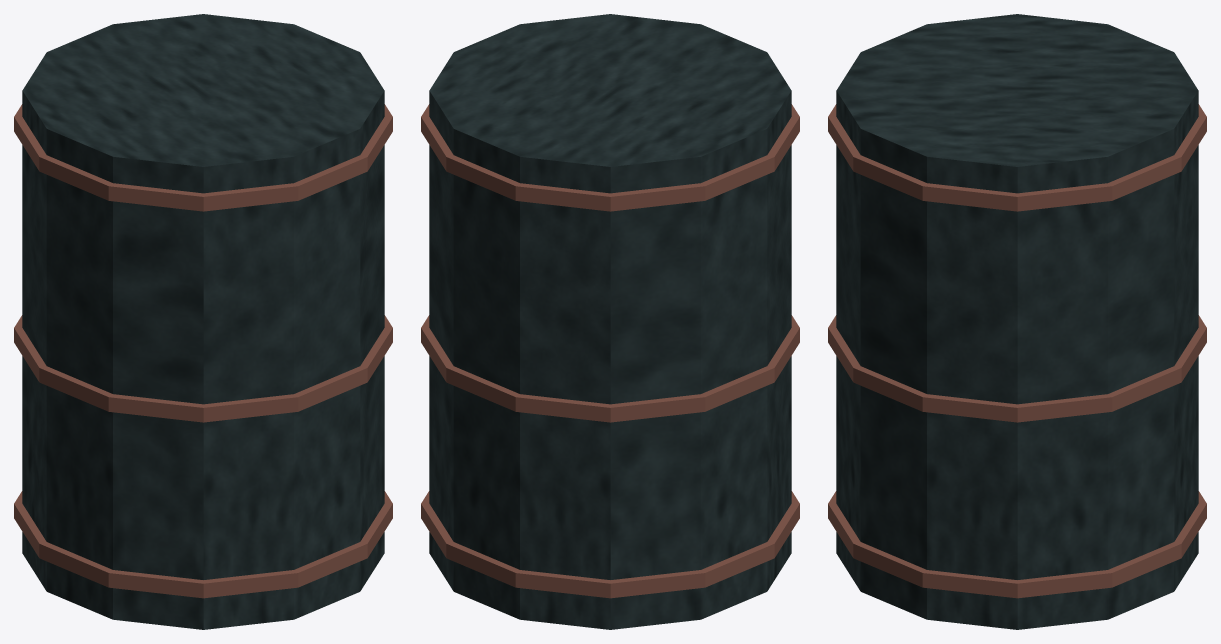
File: Barrel_Steel.glb
3 renders of one model, left to right at view 1: azimuth 30°, elevation 25°; view 2: azimuth 150°, elevation 25°; view 3: azimuth 270°, elevation 25°, orthographic.
Visible parts, largest first — view 1: Barrel_Steel; view 2: Barrel_Steel; view 3: Barrel_Steel.
Part boxes in pixels (box(x1,y1,x2,y2)): Barrel_Steel: box(14, 14, 392, 629); Barrel_Steel: box(421, 14, 799, 629); Barrel_Steel: box(828, 14, 1206, 629).
Bounding box in the file's own units: 0.586 × 0.79 × 0.586.
Materials: 2 (1 with a texture image).
